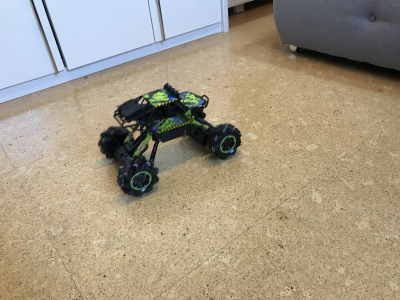remote control car: (94, 80, 245, 198)
